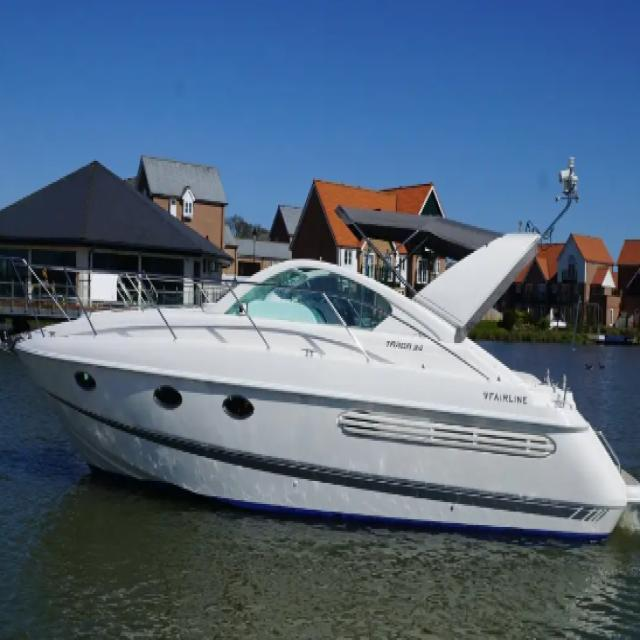houseboat: (9, 197, 640, 546)
